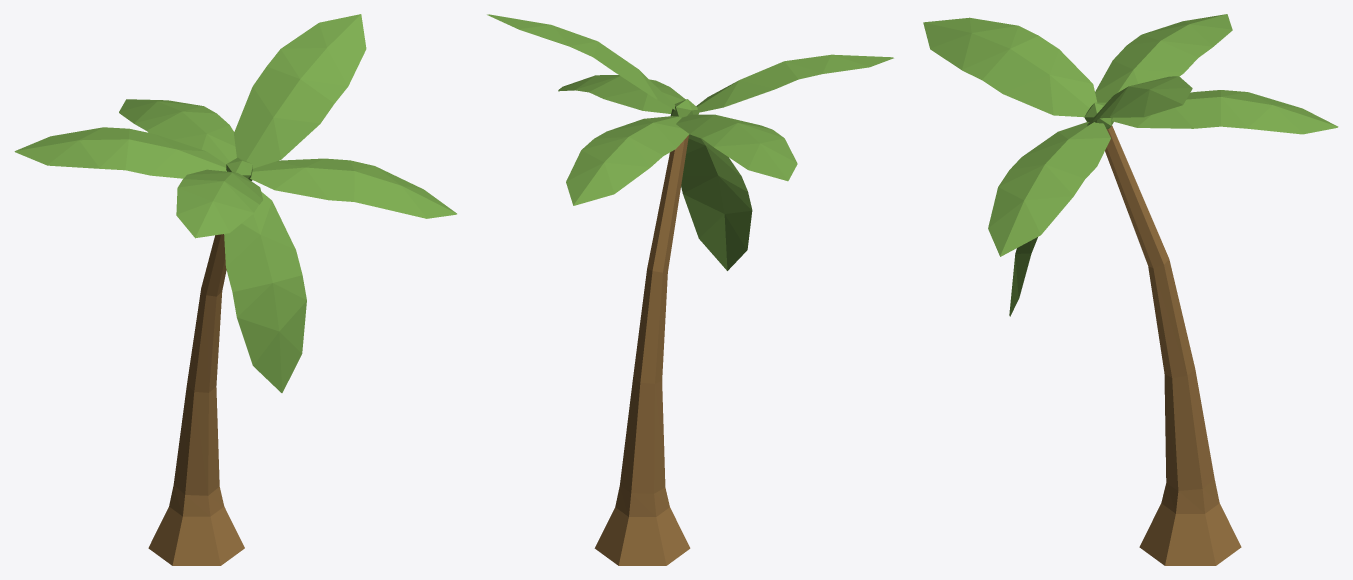
The model's file is Tree1.obj.
3 renders of one model, left to right at view 1: azimuth 30°, elevation 25°; view 2: azimuth 150°, elevation 25°; view 3: azimuth 270°, elevation 25°, orthographic. The views are drawn at different scales.
Parts seen in each view (by area): view 1: Cylinder; view 2: Cylinder; view 3: Cylinder.
Boxes of the visible parts, <box> form: Cylinder: <box>14,14,456,565</box>; Cylinder: <box>487,14,893,565</box>; Cylinder: <box>923,14,1338,565</box>.
Bounding box in the file's own units: 1.68 × 2.38 × 1.71.
1 material, 1 textured.
